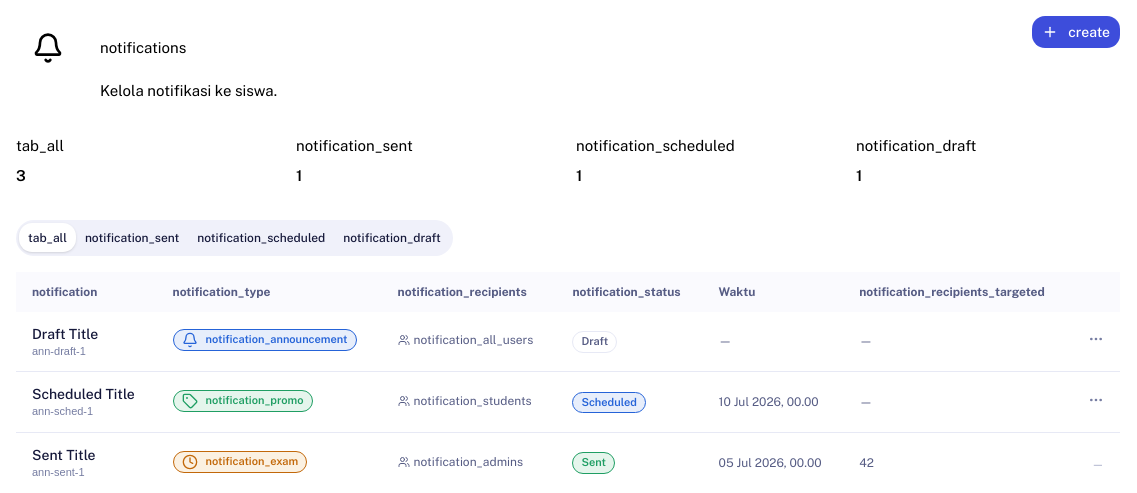
Test: AnnouncementTable › filters to draft announcements when draft tab is clicked
Press the mouse on the tab "notification_draft": (392, 238) [334,223,450,252]
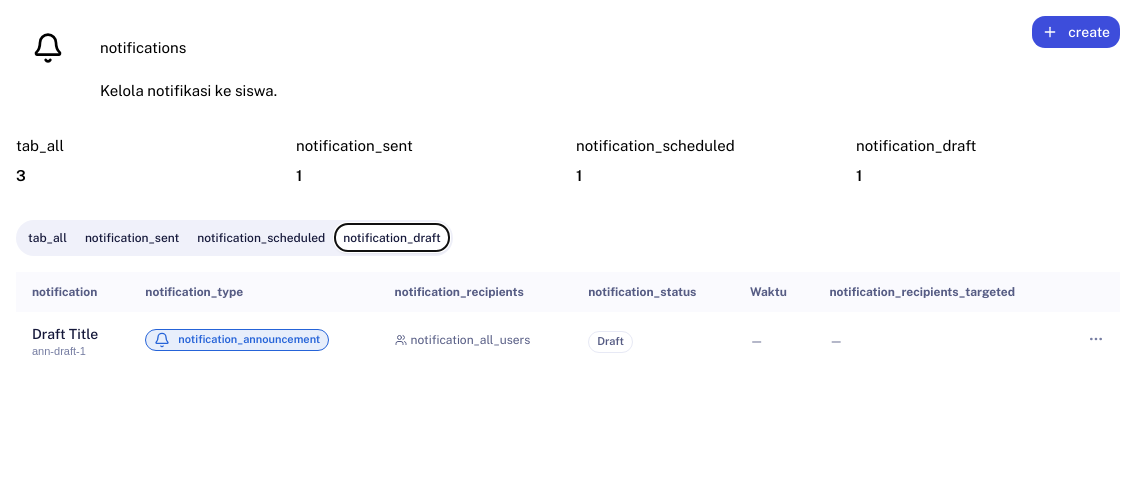
Expected: the text "Draft Title" is shown, [32,326,98,342]
Expected: the text "Scheduled Title" is gone
Expected: the text "Sent Title" is gone
